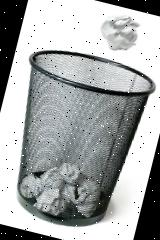paper: (14, 152, 106, 224), (95, 8, 142, 55)
